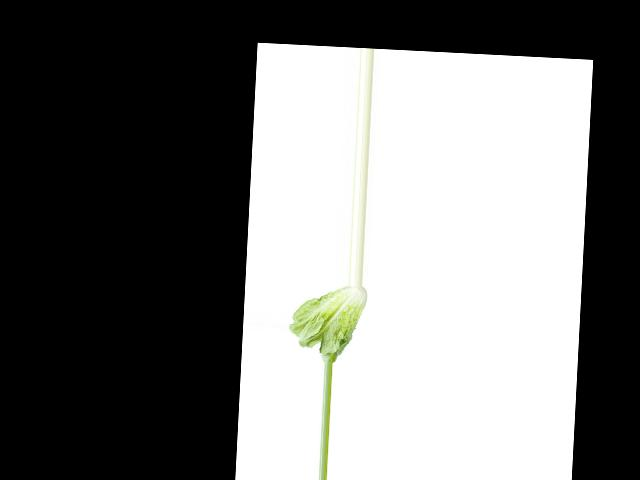lettuce: (286, 283, 368, 362)
